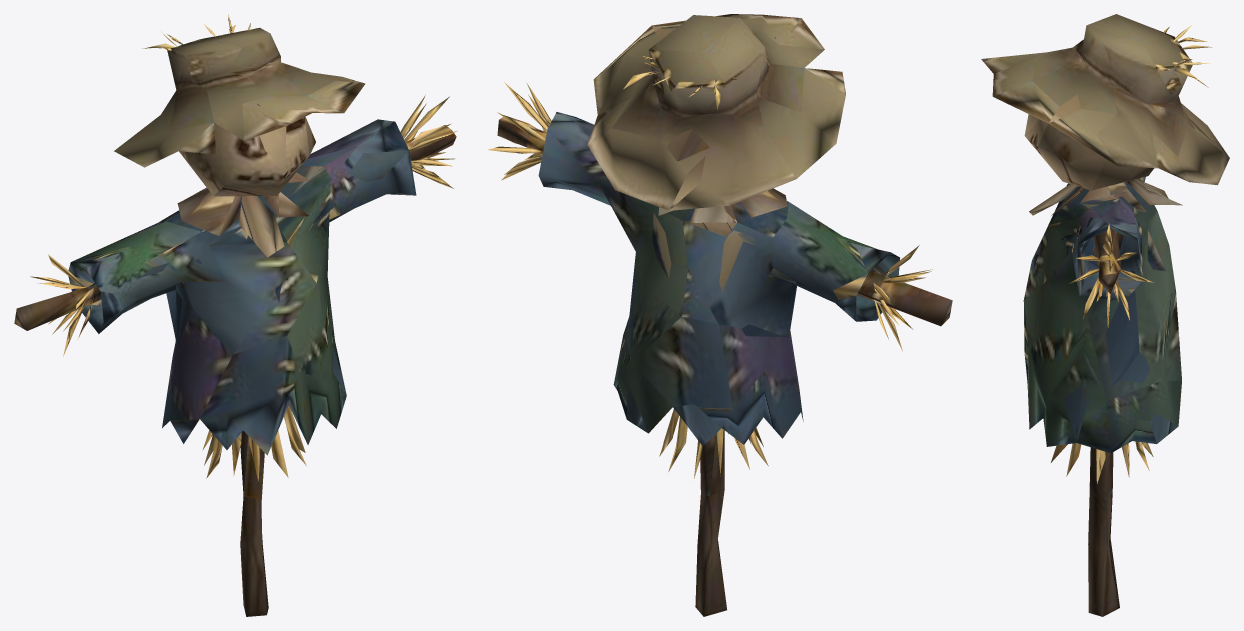
File: ch-epouvantail-semis.glb
3 renders of one model, left to right at view 1: azimuth 30°, elevation 25°; view 2: azimuth 150°, elevation 25°; view 3: azimuth 270°, elevation 25°, orthographic. The views are drawn at different scales.
Parts seen in each view (by area): view 1: ch-epouvantail-semis; view 2: ch-epouvantail-semis; view 3: ch-epouvantail-semis.
Part boxes in pixels (<box>): ch-epouvantail-semis: <box>14,14,457,616</box>; ch-epouvantail-semis: <box>488,14,952,616</box>; ch-epouvantail-semis: <box>981,14,1229,616</box>.
Bounding box in the file's own units: 1.6 × 2 × 0.7847.
Materials: 1 (1 with a texture image).
